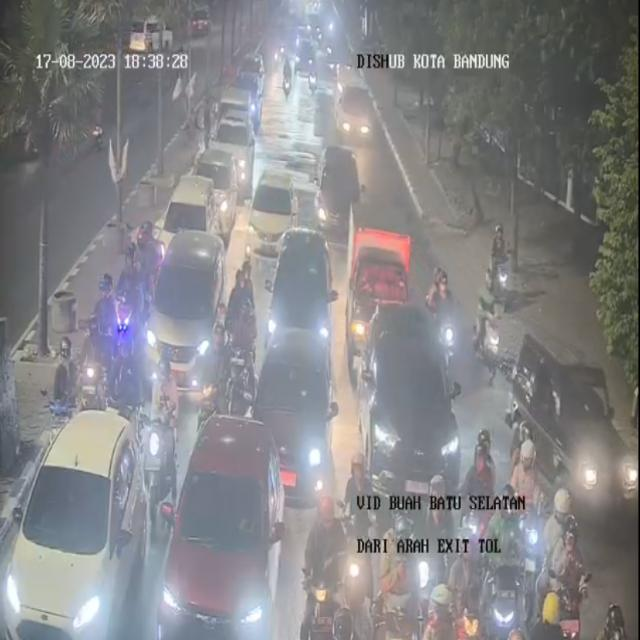cars: (0, 409, 147, 638), (164, 413, 284, 639), (369, 292, 471, 516), (253, 320, 338, 521), (145, 223, 226, 398), (342, 225, 412, 372), (268, 224, 339, 359), (158, 173, 225, 262), (316, 142, 363, 245), (248, 166, 296, 264), (196, 144, 235, 232), (215, 108, 258, 180), (336, 78, 375, 150), (230, 61, 268, 123)
motorcycle: (308, 503, 370, 638), (516, 424, 555, 591), (377, 510, 423, 640), (479, 494, 518, 640), (140, 383, 174, 490), (44, 336, 74, 453), (433, 263, 462, 384), (552, 512, 586, 606), (87, 271, 116, 377), (486, 219, 518, 311), (472, 277, 501, 373), (533, 575, 575, 640), (228, 258, 259, 346), (79, 316, 108, 406), (299, 578, 341, 640), (464, 424, 493, 507), (422, 581, 461, 640), (320, 592, 364, 640), (598, 598, 629, 640)
